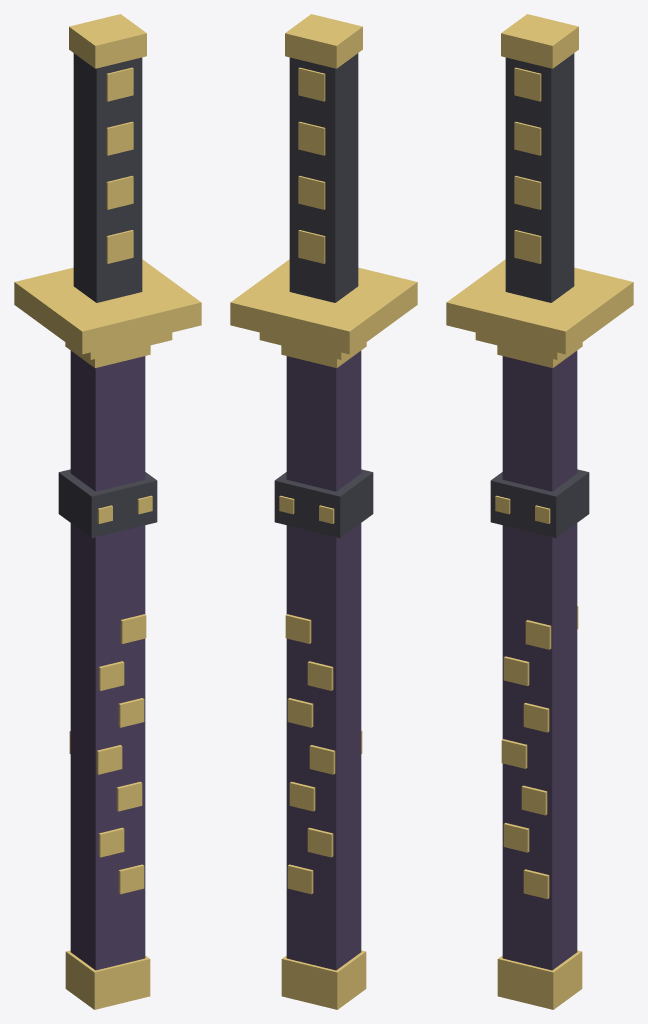
The model's file is espada_katana.glb.
The picture shows the model from 3 angles, left to right: view 1: azimuth 30°, elevation 25°; view 2: azimuth 150°, elevation 25°; view 3: azimuth 330°, elevation 25°; orthographic projection.
Visible parts, largest first — view 1: espada_katana; view 2: espada_katana; view 3: espada_katana.
Boxes of the visible parts, x1,y1,x2,y2 form: espada_katana: (14,14,201,1009); espada_katana: (230,14,417,1009); espada_katana: (446,14,633,1009).
Bounding box in the file's own units: 0.12 × 0.925 × 0.118.
